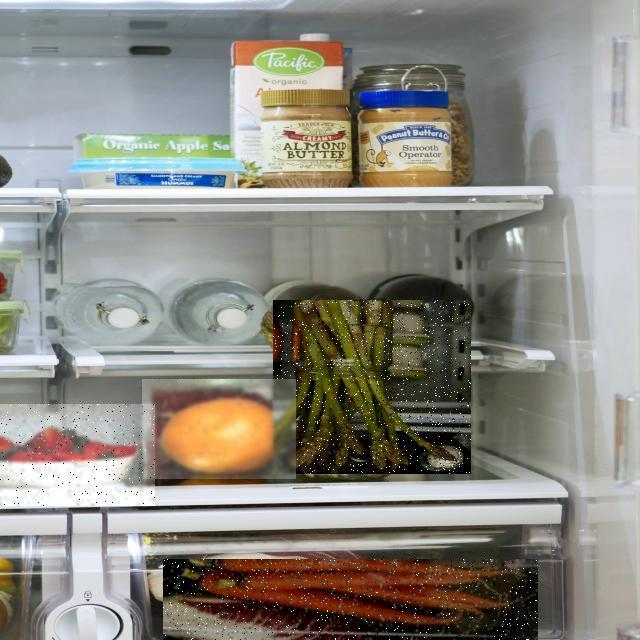Asparagus: (273, 300, 471, 474)
Carrot: (163, 559, 538, 640)
Orange: (142, 379, 296, 479)
Straw Berry: (0, 404, 155, 506)
